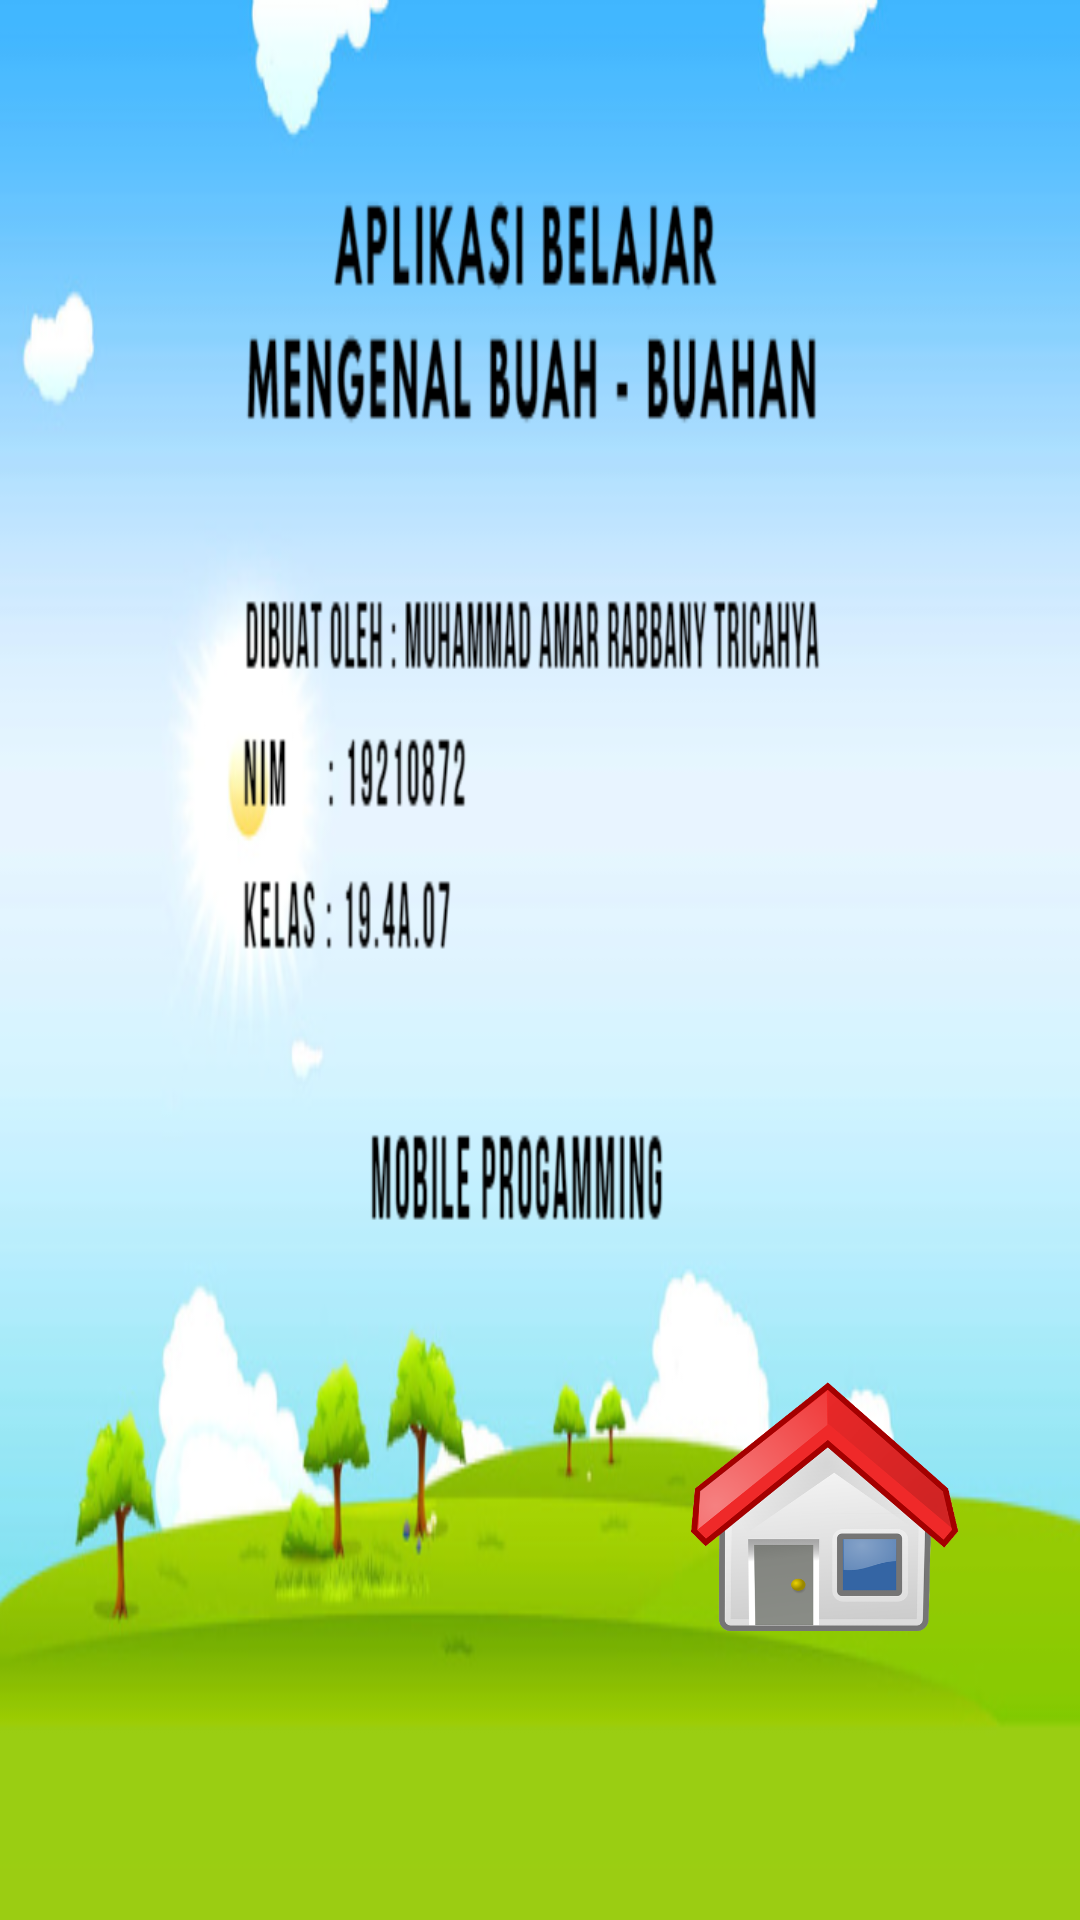

Where to tap for icons on this 1080w x 1920h app screen, as (x,y):
home: (826,1511)
